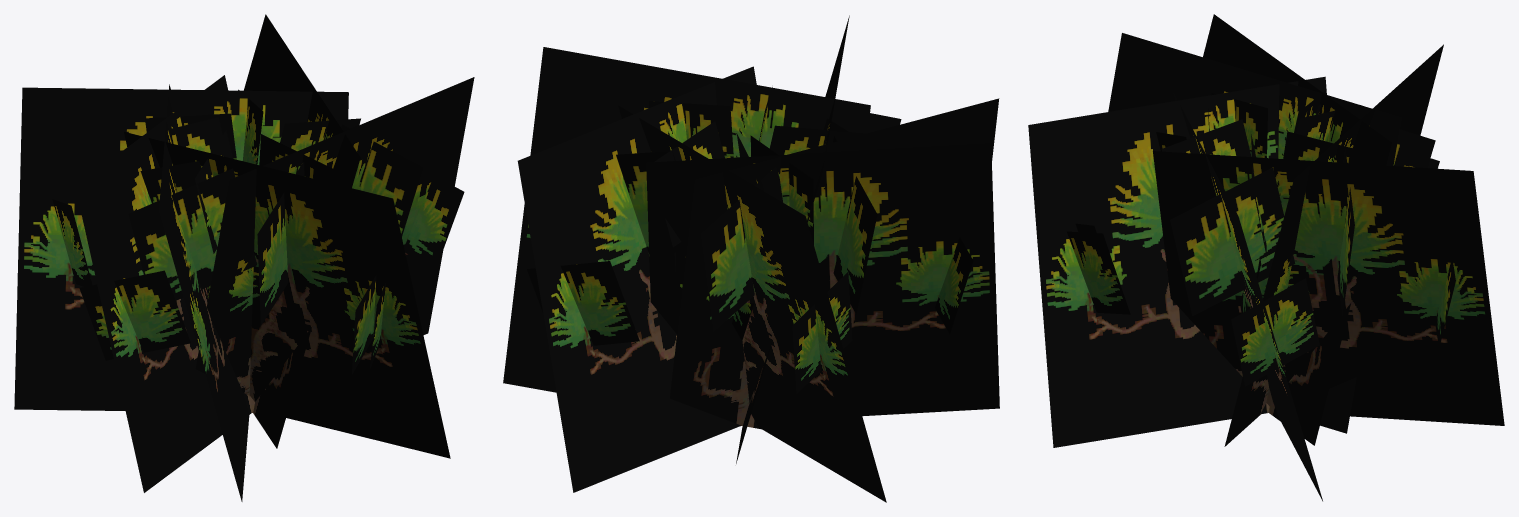
Rendered from Tropics Bush.fbx.
The picture shows the model from 3 angles, left to right: view 1: azimuth 30°, elevation 25°; view 2: azimuth 150°, elevation 25°; view 3: azimuth 270°, elevation 25°; orthographic projection. The views are drawn at different scales.
Parts seen in each view (by area): view 1: Tropics Bush; view 2: Tropics Bush; view 3: Tropics Bush.
Part boxes in pixels (x1,y1,x2,y2): Tropics Bush: [14, 14, 474, 501]; Tropics Bush: [503, 15, 999, 502]; Tropics Bush: [1028, 14, 1504, 501].
Size of the model in its own units: 700 by 484 by 697.
